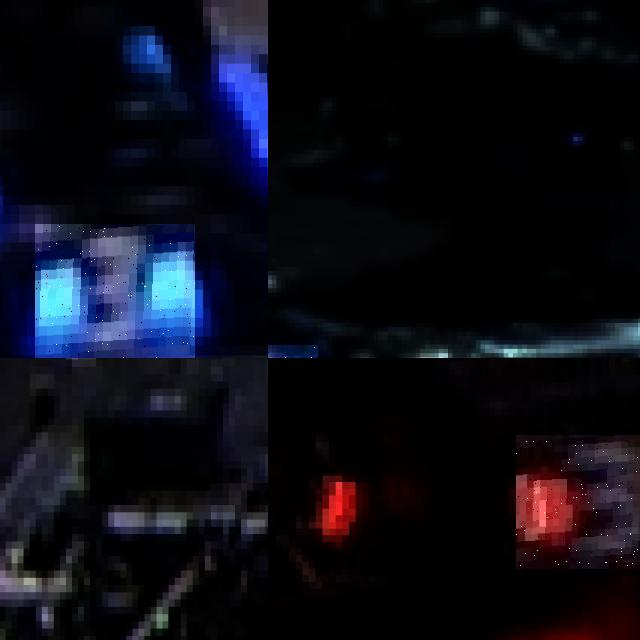B3: (35, 224, 195, 358)
R3: (515, 435, 640, 568)
